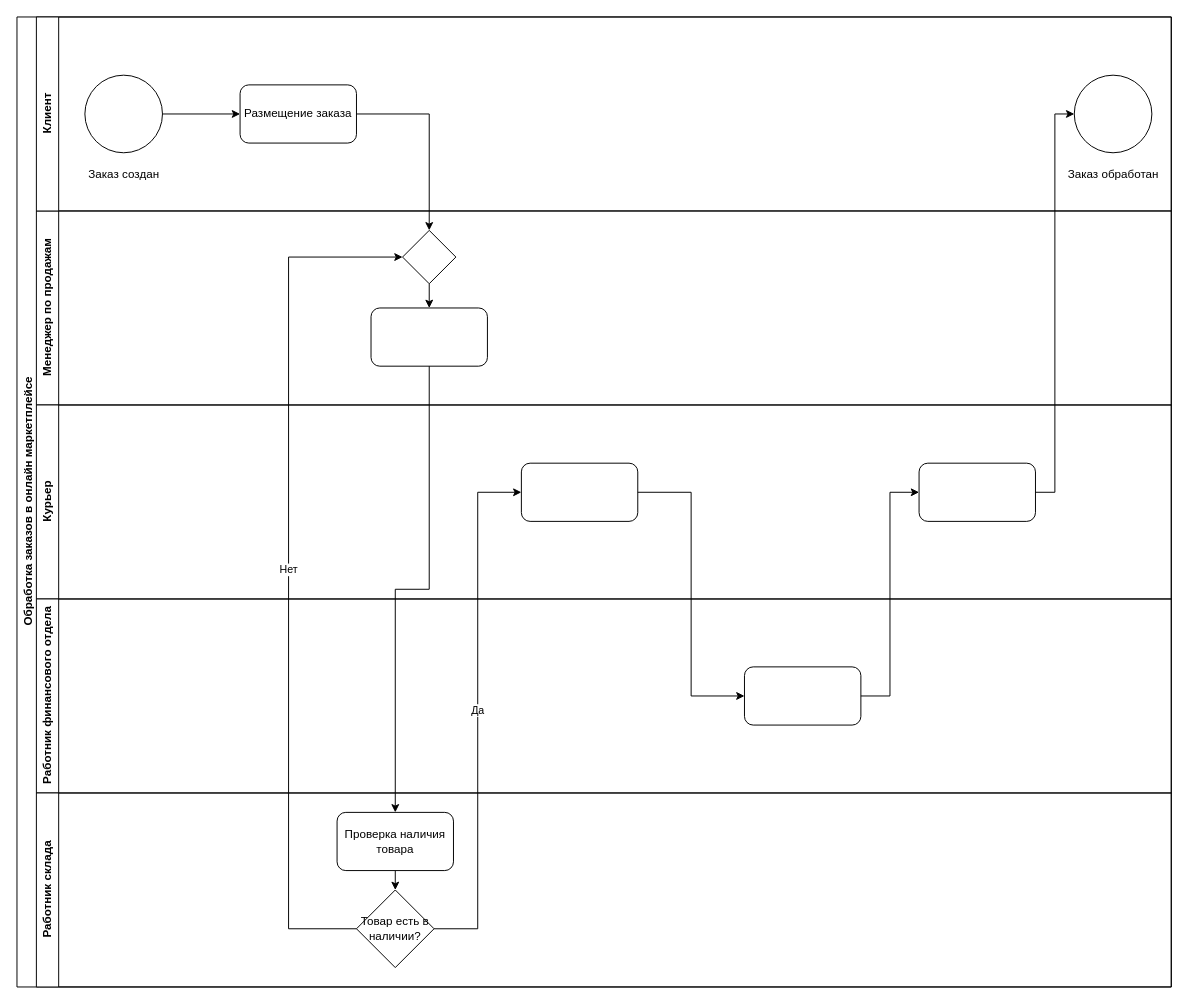
This 1188x1004 diagram has some shape labels left out. The centre of each missing label's shape, as x and y in pixels:
Выставление счёта: (x=802, y=695)
Доставка заказа: (x=976, y=491)
Обработка заказа: (x=428, y=336)
Подготовка товаров: (x=579, y=491)
